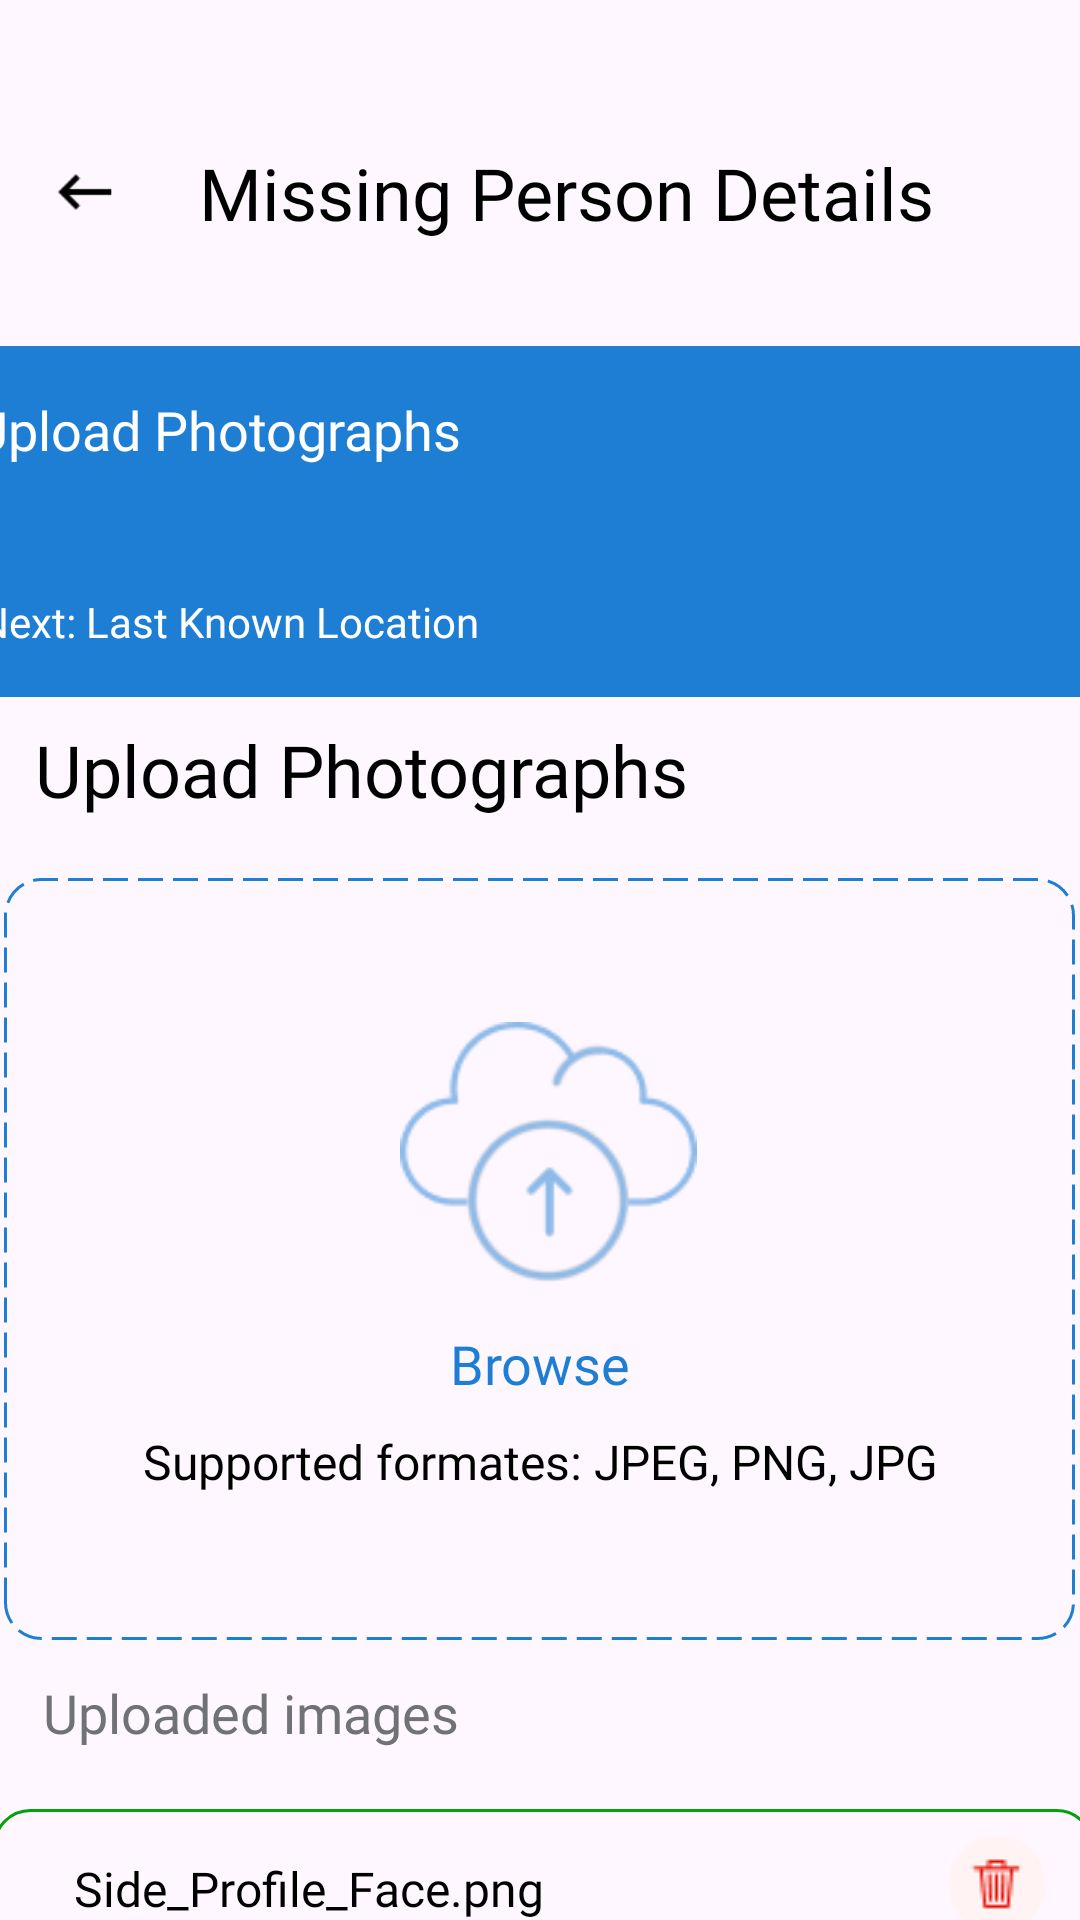

Named icons in this screenshot (1080×1920) and their bounding boxes, {"x1": x1, "y1": y1, "x2": x2, "y2": y2}:
arrow: {"x1": 58, "y1": 174, "x2": 112, "y2": 210}
uploader: {"x1": 400, "y1": 1022, "x2": 697, "y2": 1281}
